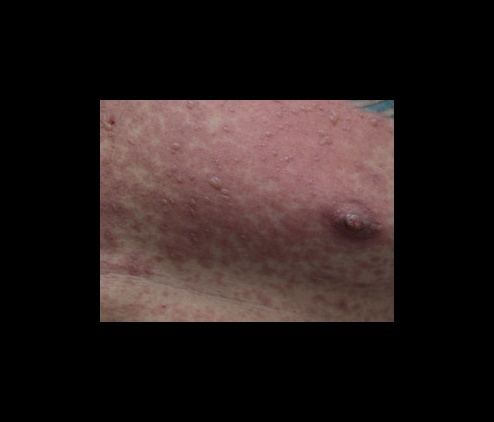SJS-TEN: (99, 97, 396, 322)
